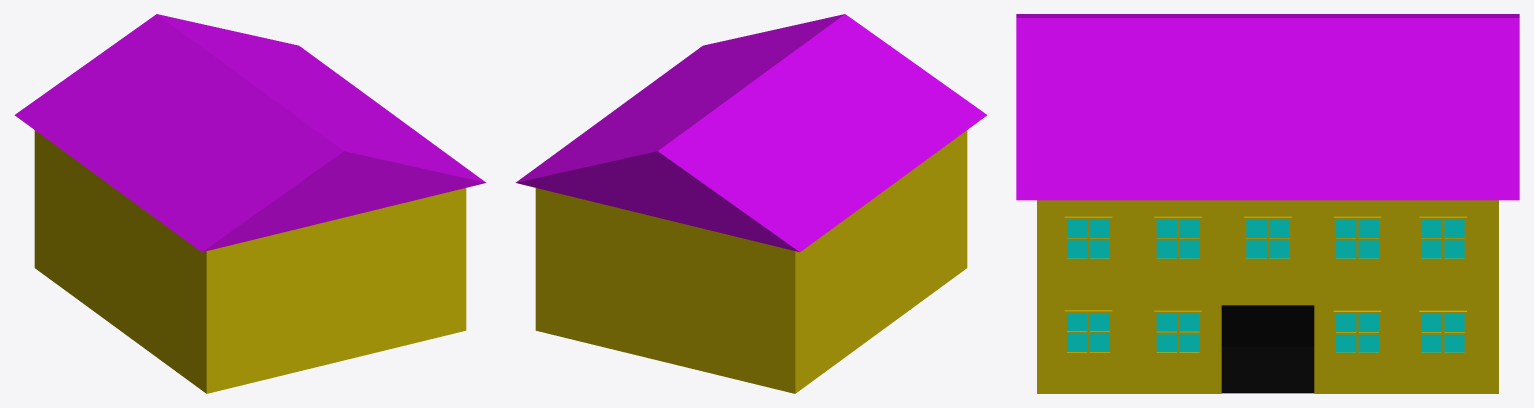
File: sCHOOL.fbx
The picture shows the model from 3 angles, left to right: view 1: azimuth 30°, elevation 25°; view 2: azimuth 150°, elevation 25°; view 3: azimuth 270°, elevation 25°; orthographic projection. The views are drawn at different scales.
Visible parts, largest first — view 1: Roof, Wall; view 2: Roof, Wall; view 3: Roof, Wall, Windows, Cube, Window Frames.
Boxes of the visible parts, bbox=[...] form: Roof: bbox=[14, 14, 486, 252]; Wall: bbox=[34, 130, 466, 393]; Roof: bbox=[515, 14, 987, 252]; Wall: bbox=[535, 130, 967, 393]; Roof: bbox=[1016, 14, 1519, 200]; Wall: bbox=[1037, 200, 1498, 393]; Windows: bbox=[1067, 220, 1464, 352]; Cube: bbox=[1221, 305, 1314, 392]; Window Frames: bbox=[1064, 216, 1466, 355].
Bounding box in the file's own units: 1849 × 1346 × 2108.
